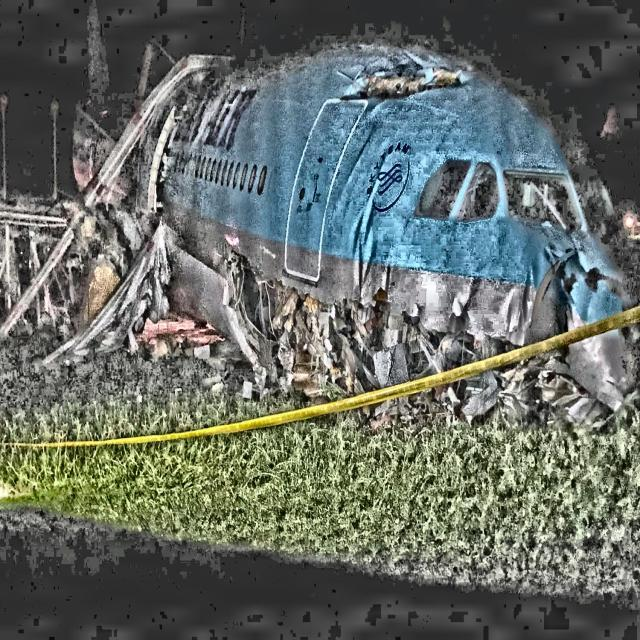crack: (342, 73, 464, 109)
